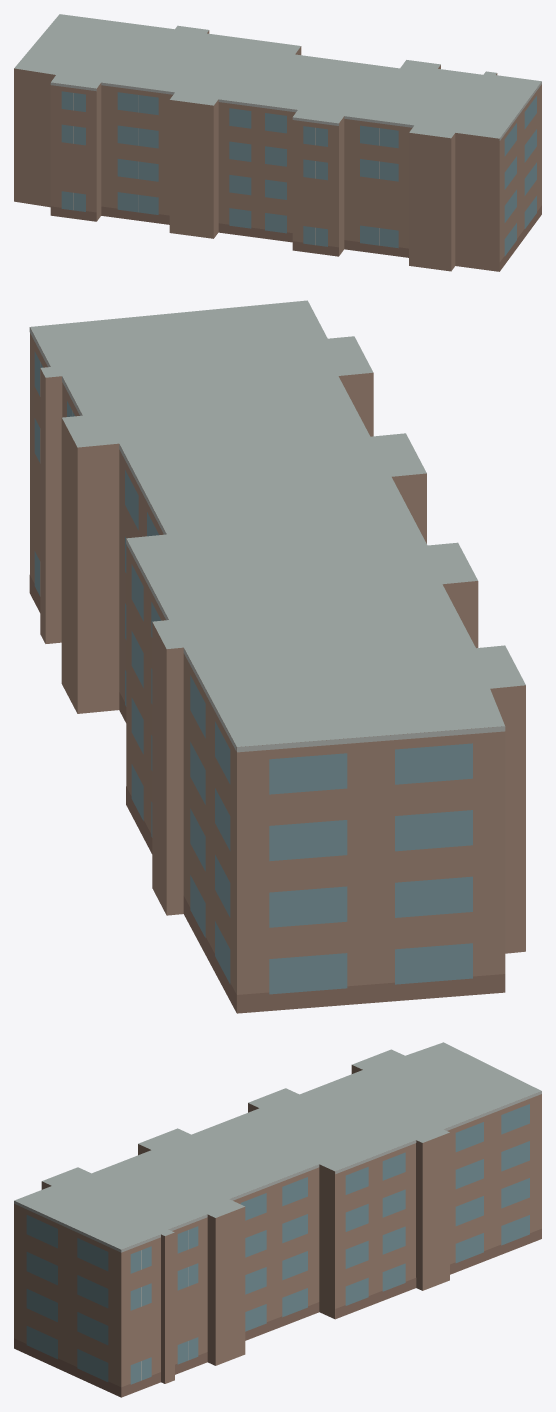
The model's file is survey-upis-32823391.glb.
The picture shows the model from 3 angles, top to bottom: view 1: azimuth 30°, elevation 25°; view 2: azimuth 150°, elevation 25°; view 3: azimuth 270°, elevation 25°; orthographic projection. The views are drawn at different scales.
Visible parts, largest first — view 1: survey-upis-32823391.tmp; view 2: survey-upis-32823391.tmp; view 3: survey-upis-32823391.tmp.
Part boxes in pixels (bbox=[...]): survey-upis-32823391.tmp: bbox=[14, 14, 541, 271]; survey-upis-32823391.tmp: bbox=[29, 300, 525, 1013]; survey-upis-32823391.tmp: bbox=[14, 1042, 541, 1397].
Size of the model in its own units: 36.69 by 12.2 by 39.47.
